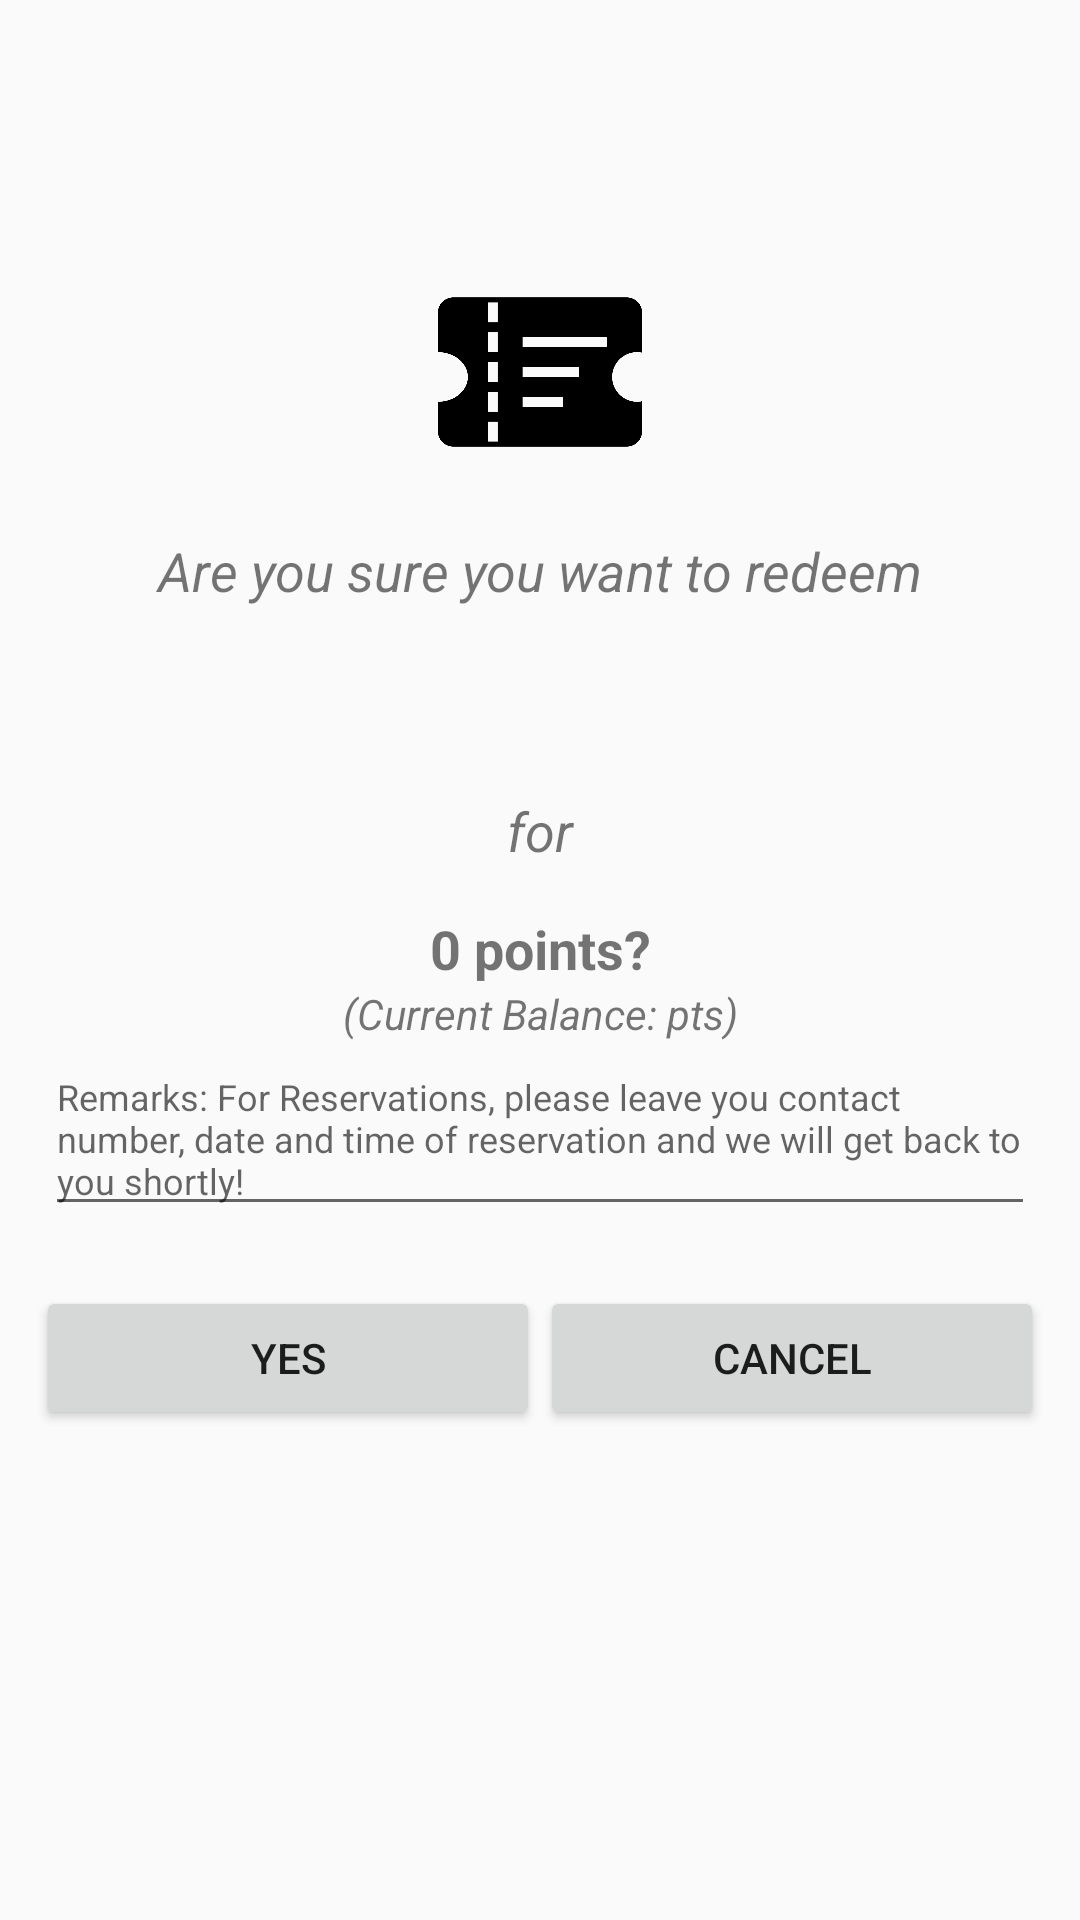

Named icons in this screenshot (1080×1920) and their centers, (x=x, y=y):
voucher: (x=540, y=372)
